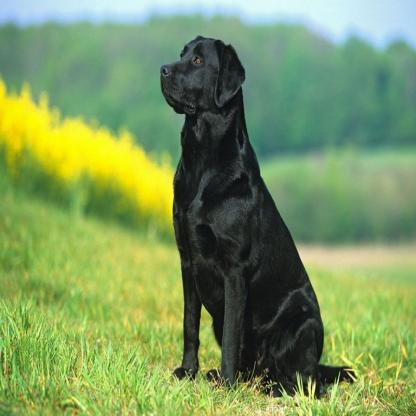Labarador Retriever: (160, 34, 355, 396)
